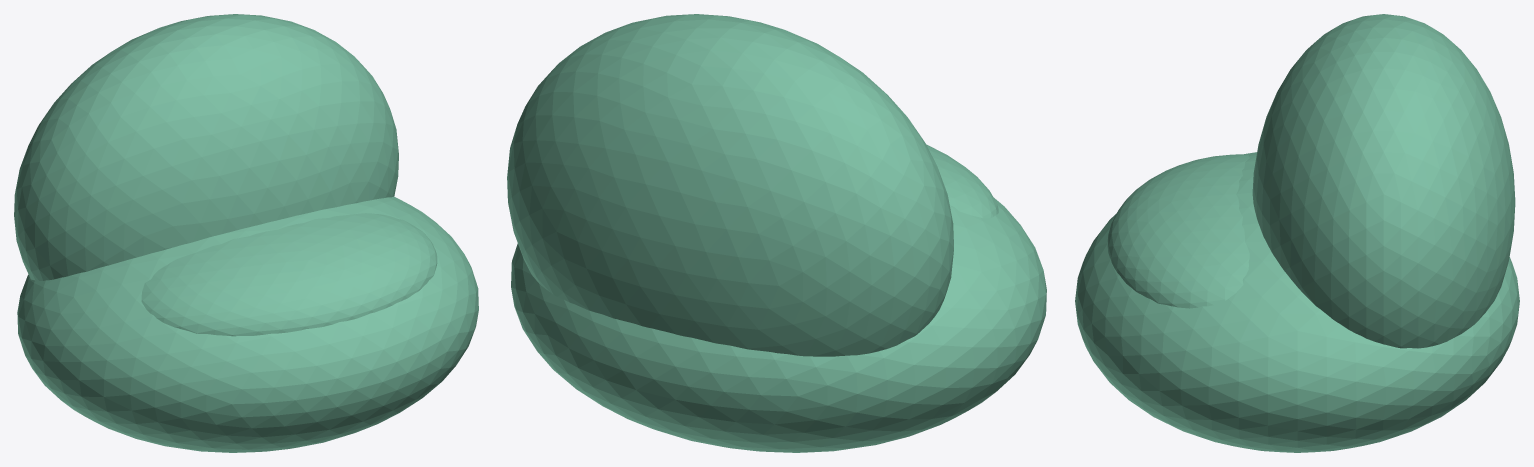
Rendered from beanbag.glb.
The picture shows the model from 3 angles, left to right: view 1: azimuth 30°, elevation 25°; view 2: azimuth 150°, elevation 25°; view 3: azimuth 270°, elevation 25°; orthographic projection. The views are drawn at different scales.
Visible parts, largest first — view 1: back, base, seat; view 2: back, base, seat; view 3: back, base, seat.
Part boxes in pixels (x1=…): back: x1=14, y1=14, x2=398, y2=280; base: x1=17, y1=196, x2=478, y2=452; seat: x1=141, y1=213, x2=437, y2=336; back: x1=507, y1=14, x2=953, y2=356; base: x1=511, y1=198, x2=1046, y2=452; seat: x1=926, y1=144, x2=998, y2=218; back: x1=1252, y1=14, x2=1515, y2=348; base: x1=1075, y1=152, x2=1519, y2=452; seat: x1=1107, y1=154, x2=1249, y2=308.
Bounding box in the file's own units: 1.08 × 0.91 × 0.98.
